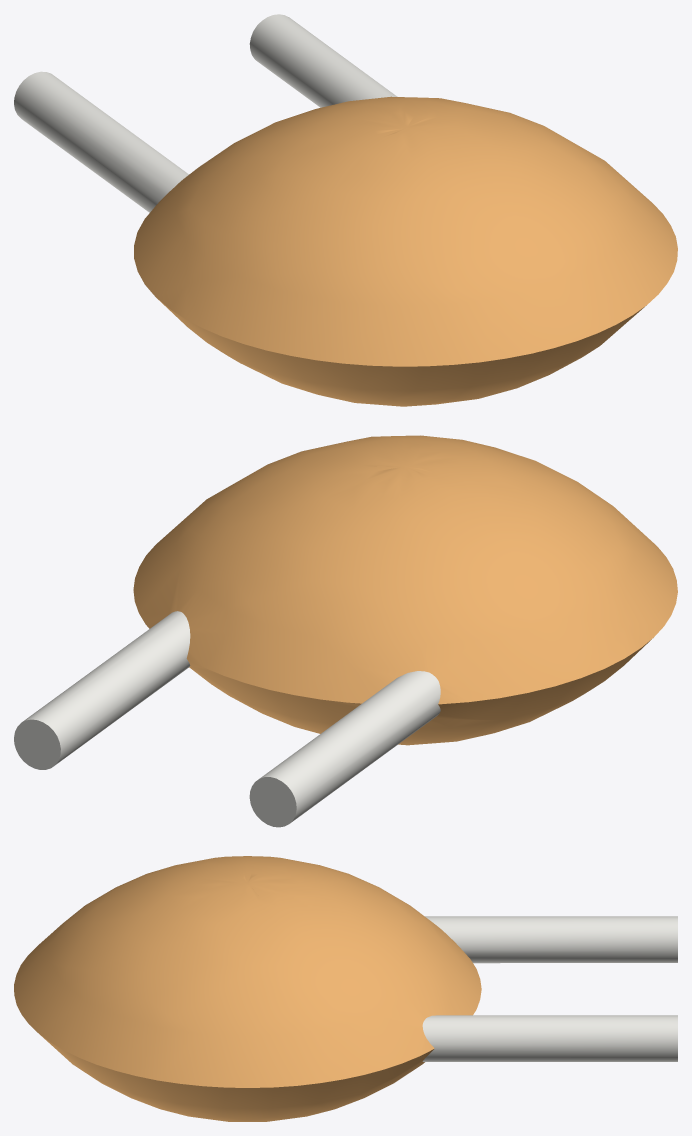
The model's file is C_Disc_D5.0mm_W2.5mm_P2.50mm.glb.
3 views of the same model, one above another, from view 1: azimuth 30°, elevation 25°; view 2: azimuth 150°, elevation 25°; view 3: azimuth 270°, elevation 25° (orthographic). The views are drawn at different scales.
Visible parts, largest first — view 1: Shape_IndexedFaceSet.003, Shape_IndexedFaceSet.002, Shape_IndexedFaceSet.001, Shape_IndexedFaceSet.004; view 2: Shape_IndexedFaceSet.003, Shape_IndexedFaceSet.001, Shape_IndexedFaceSet.002, Shape_IndexedFaceSet.004, Shape_IndexedFaceSet, Shape_IndexedFaceSet.005; view 3: Shape_IndexedFaceSet.003, Shape_IndexedFaceSet.004, Shape_IndexedFaceSet.001, Shape_IndexedFaceSet.002.
Boxes of the visible parts, x1=… form: Shape_IndexedFaceSet.003: x1=134, y1=96, x2=677, y2=366; Shape_IndexedFaceSet.002: x1=157, y1=298, x2=646, y2=406; Shape_IndexedFaceSet.001: x1=14, y1=71, x2=188, y2=212; Shape_IndexedFaceSet.004: x1=249, y1=14, x2=397, y2=107; Shape_IndexedFaceSet.003: x1=133, y1=435, x2=677, y2=704; Shape_IndexedFaceSet.001: x1=260, y1=671, x2=440, y2=823; Shape_IndexedFaceSet.002: x1=187, y1=639, x2=651, y2=745; Shape_IndexedFaceSet.004: x1=22, y1=611, x2=190, y2=764; Shape_IndexedFaceSet: x1=249, y1=777, x2=296, y2=827; Shape_IndexedFaceSet.005: x1=14, y1=719, x2=60, y2=769; Shape_IndexedFaceSet.003: x1=14, y1=856, x2=481, y2=1087; Shape_IndexedFaceSet.004: x1=422, y1=1015, x2=677, y2=1061; Shape_IndexedFaceSet.001: x1=425, y1=916, x2=677, y2=963; Shape_IndexedFaceSet.002: x1=40, y1=1035, x2=433, y2=1121.
Bounding box in the file's own units: 1.97 × 0.984 × 2.79.
